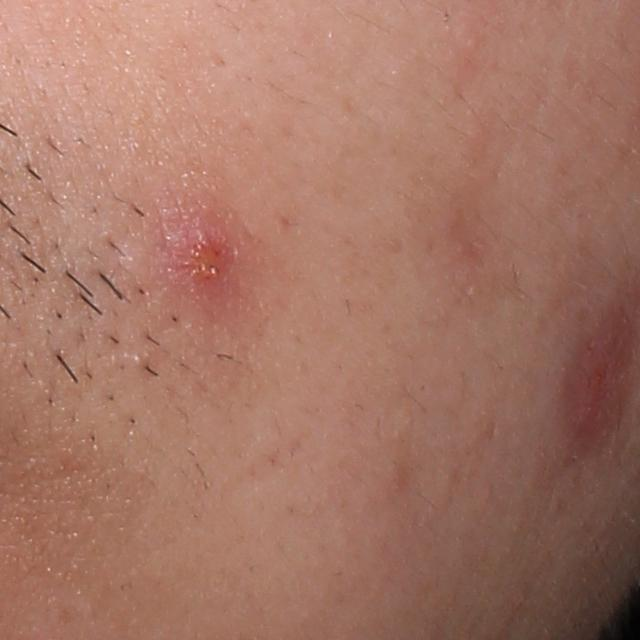papule: (163, 204, 250, 297)
